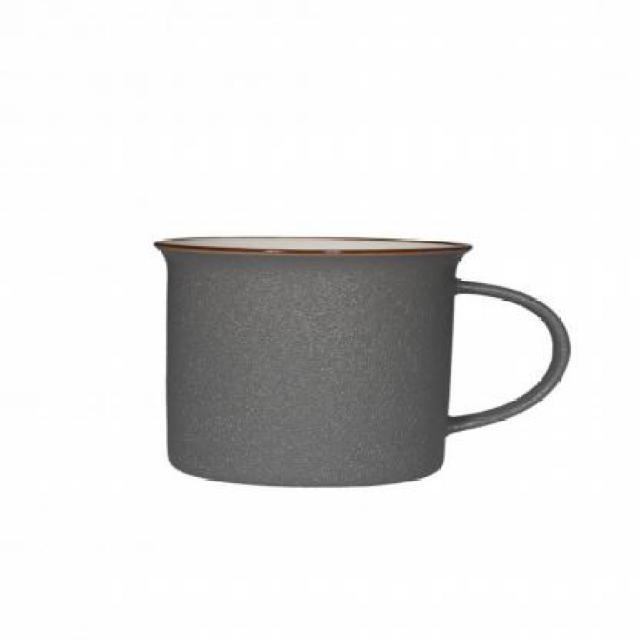taza: (152, 234, 572, 492)
